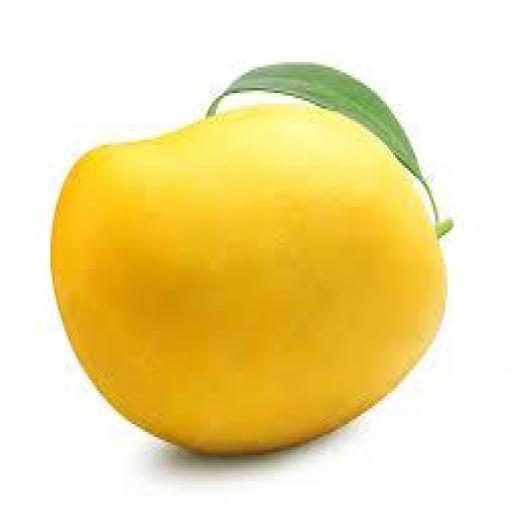mango: (51, 104, 449, 457)
